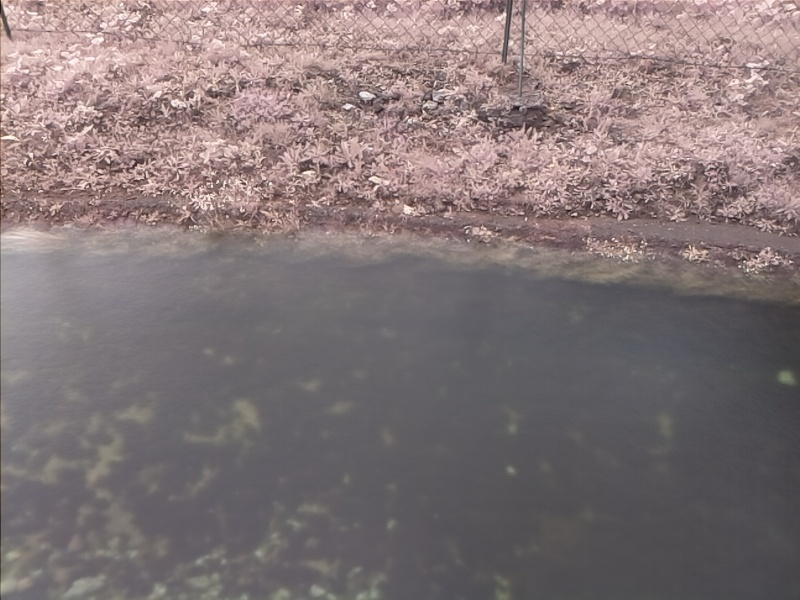Water: (1, 220, 797, 600)
